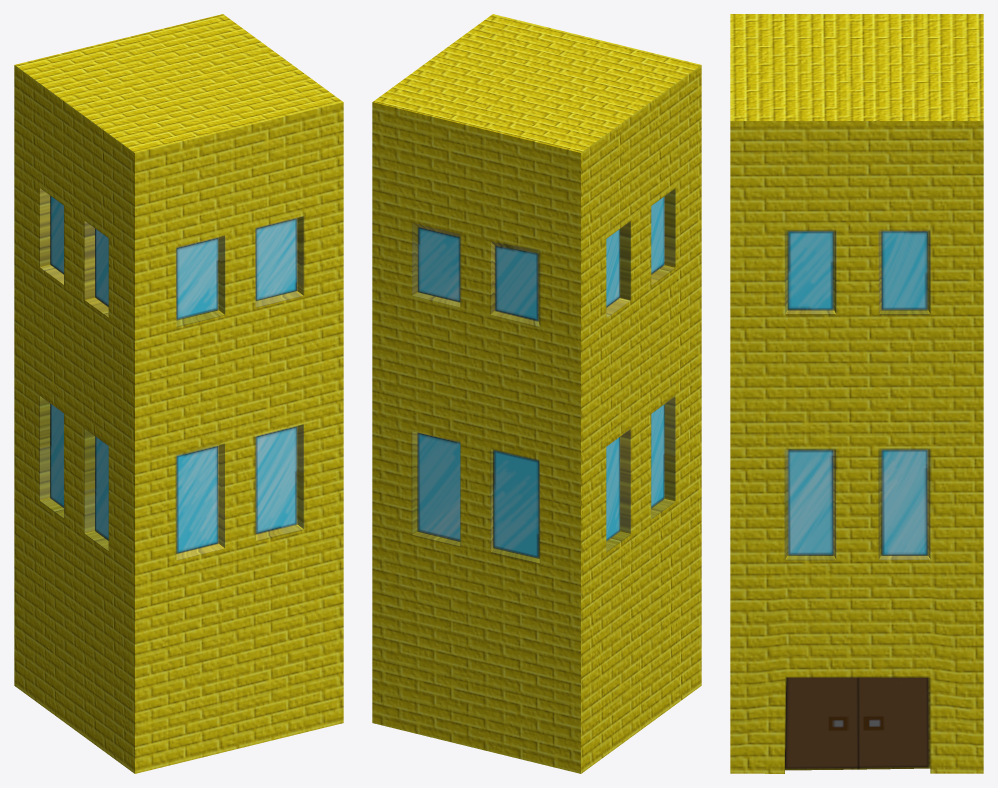
The model's file is edificio1.fbx.
3 renders of one model, left to right at view 1: azimuth 30°, elevation 25°; view 2: azimuth 150°, elevation 25°; view 3: azimuth 270°, elevation 25°, orthographic. The views are drawn at different scales.
Parts seen in each view (by area): view 1: edificio1; view 2: edificio1; view 3: edificio1.
Boxes of the visible parts, box(x1,y1,x2,y2) form: edificio1: box(14, 14, 343, 773); edificio1: box(372, 14, 701, 773); edificio1: box(730, 14, 983, 773).
Size of the model in its own units: 9.46 by 26.94 by 9.46.
